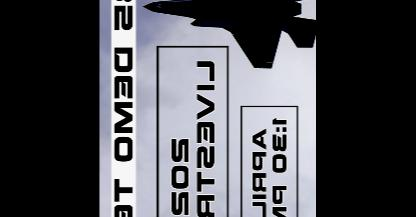F22: (142, 0, 316, 68)
